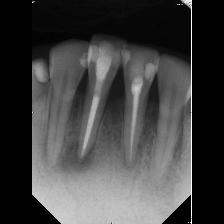apical_lesion: (60, 34, 129, 188)
